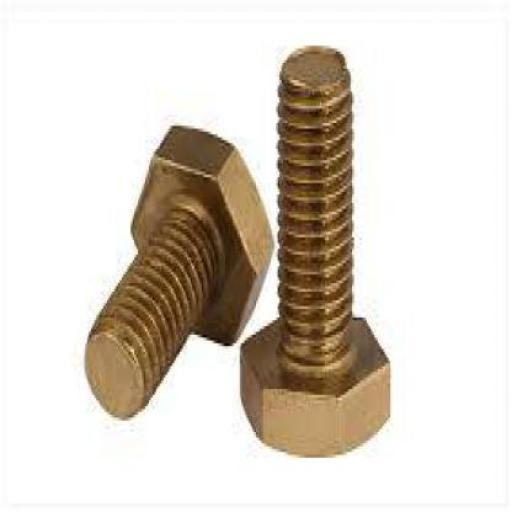Bolt: (238, 45, 392, 458), (83, 124, 274, 422)
